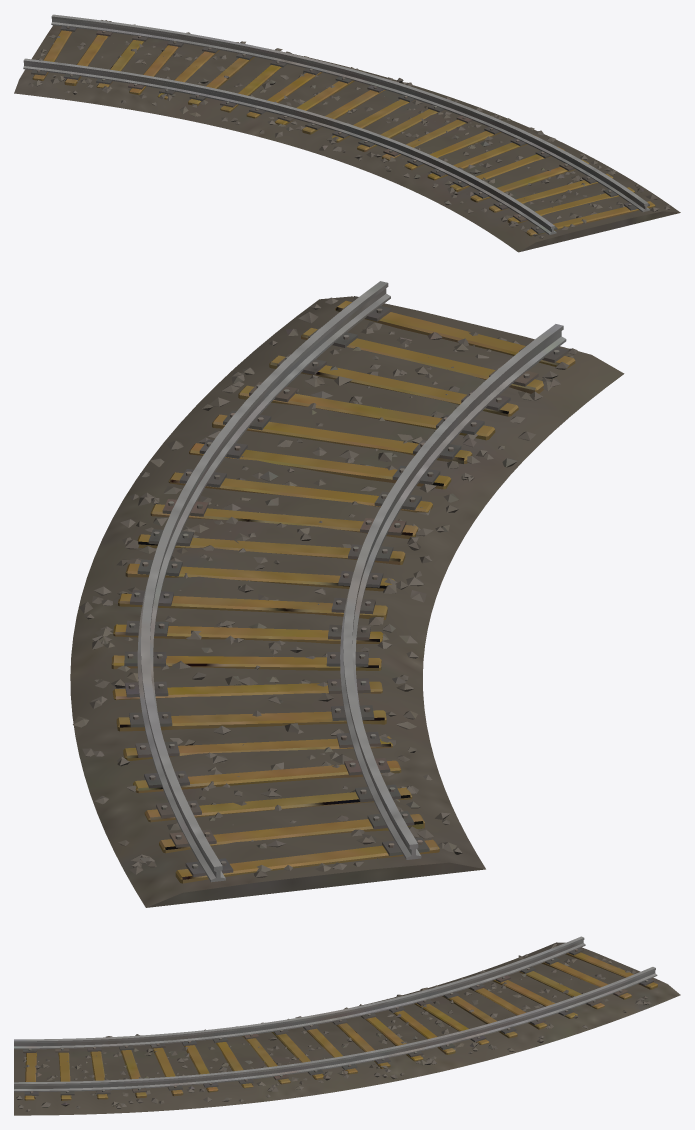
File: legacy-curved-rail.glb
The picture shows the model from 3 angles, top to bottom: view 1: azimuth 30°, elevation 25°; view 2: azimuth 150°, elevation 25°; view 3: azimuth 270°, elevation 25°; orthographic projection. The views are drawn at different scales.
Visible parts, largest first — view 1: body; view 2: body; view 3: body.
Part boxes in pixels (x1=…): body: x1=14, y1=14, x2=680, y2=252; body: x1=70, y1=281, x2=624, y2=907; body: x1=14, y1=936, x2=680, y2=1115.
Size of the model in its own units: 4.74 by 0.2182 by 7.72.
Materials: 1 (1 with a texture image).
